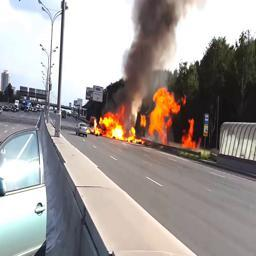fire: (91, 105, 144, 146), (148, 85, 181, 144), (182, 119, 200, 150)
